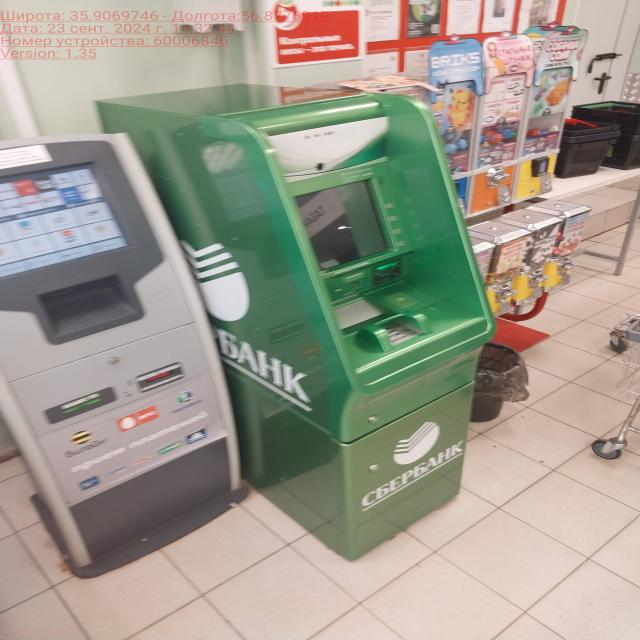bank: (88, 83, 499, 560)
